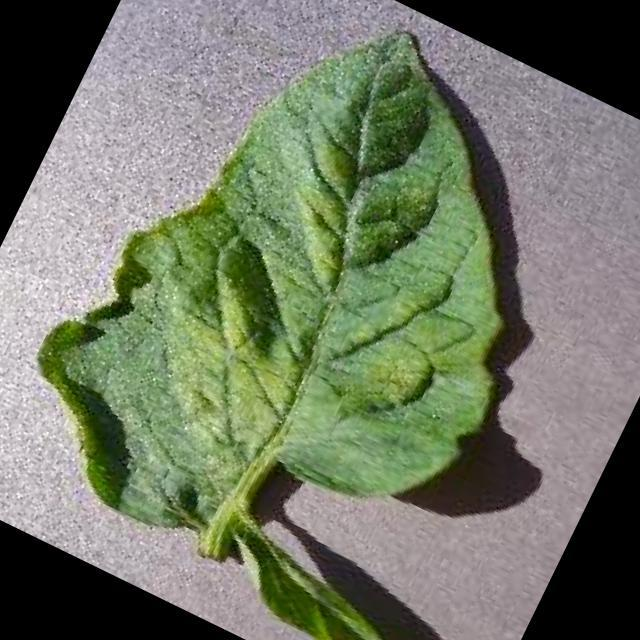Tomato spider mites leaf: (0, 0, 622, 634)
